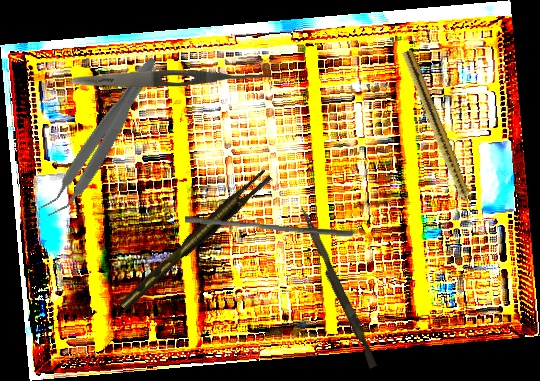Dressing Forceps: (70, 65, 277, 91)
Handpiece: (398, 48, 480, 221)
Pusher: (293, 206, 382, 369), (184, 215, 354, 238)
Tissue Forceps: (112, 168, 277, 311), (37, 49, 164, 226)
